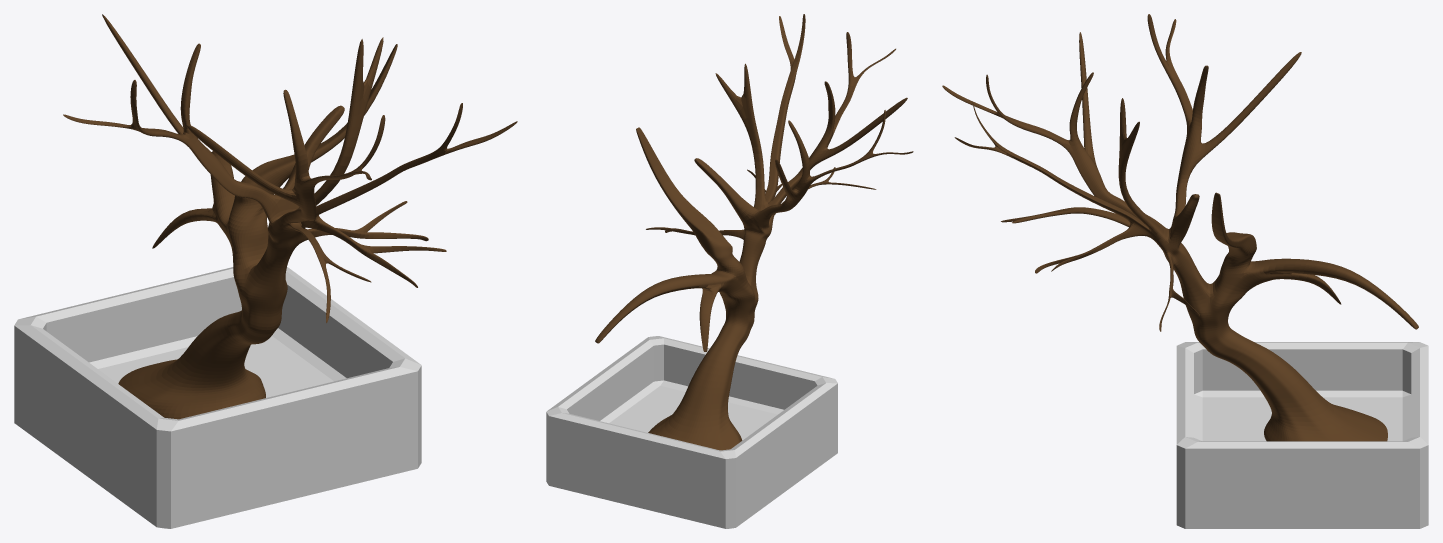
File: tree.fbx
3 views of the same model, side by side, from view 1: azimuth 30°, elevation 25°; view 2: azimuth 150°, elevation 25°; view 3: azimuth 270°, elevation 25° (orthographic). The views are drawn at different scales.
Visible parts, largest first — view 1: Cube, Cube.002; view 2: Cube, Cube.002; view 3: Cube, Cube.002.
Boxes of the visible parts, x1,y1,x2,y2 form: Cube: [14, 267, 421, 528]; Cube.002: [63, 14, 517, 419]; Cube: [546, 336, 837, 528]; Cube.002: [595, 14, 913, 450]; Cube: [1176, 342, 1428, 528]; Cube.002: [942, 14, 1418, 441].
Size of the model in its own units: 87.58 by 110 by 123.
